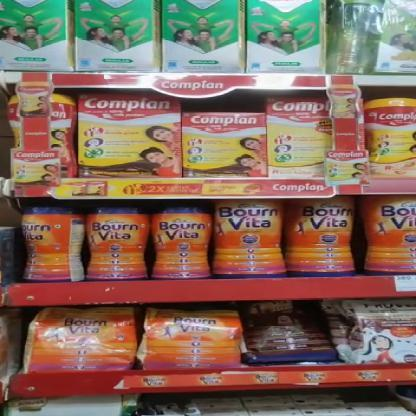Complan Kesar Badam: (267, 99, 329, 177)
Complan Royal Chocolate: (80, 96, 180, 176), (183, 111, 266, 176)
